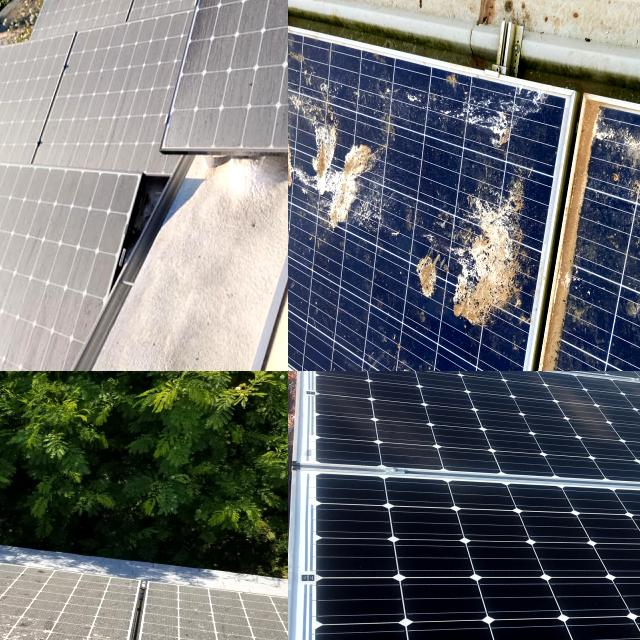bird: (446, 0, 572, 169), (384, 262, 502, 371), (296, 161, 382, 260), (510, 237, 566, 370), (391, 190, 472, 254), (0, 584, 49, 631), (0, 616, 69, 640), (0, 579, 33, 616)
crack: (308, 473, 640, 640), (303, 371, 640, 500), (299, 371, 640, 430), (307, 371, 608, 424), (324, 579, 426, 640)
dust: (0, 164, 65, 361), (78, 39, 152, 166), (210, 0, 288, 26), (0, 52, 20, 145), (58, 0, 123, 24), (151, 0, 181, 31), (115, 0, 188, 11)
